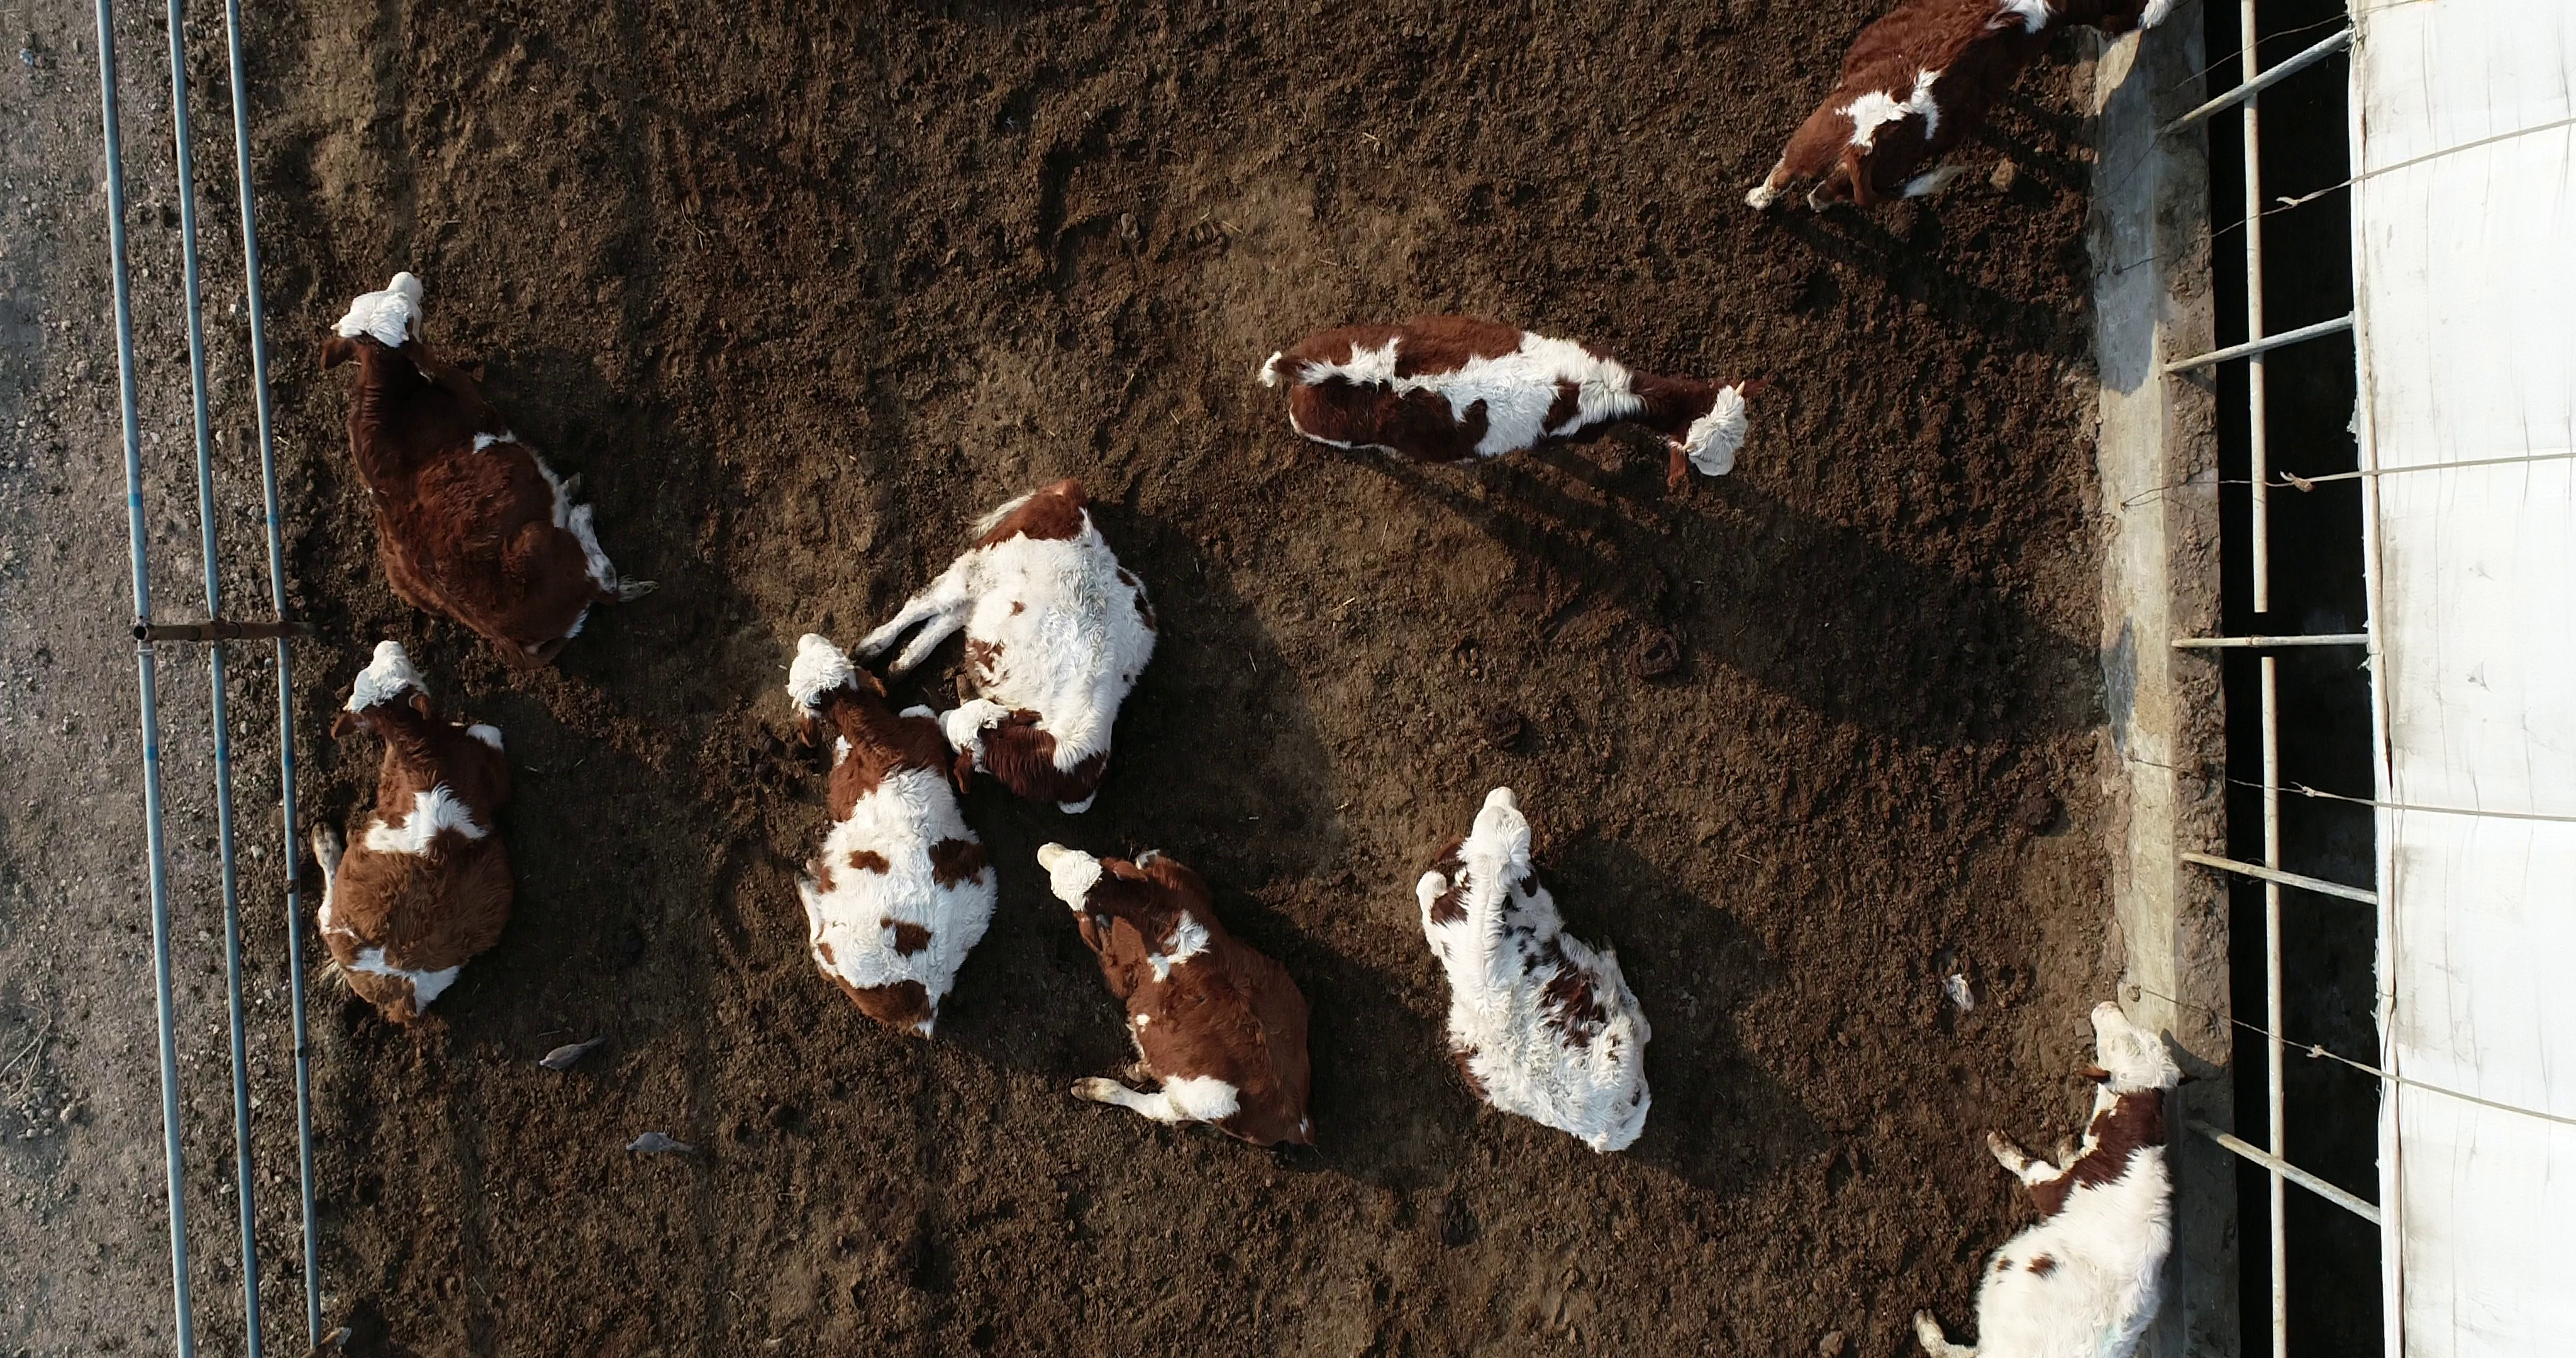cattle: (313, 269, 663, 673), (1252, 314, 1772, 499), (780, 630, 1005, 1048), (1411, 787, 1661, 1157), (298, 637, 525, 1031)
